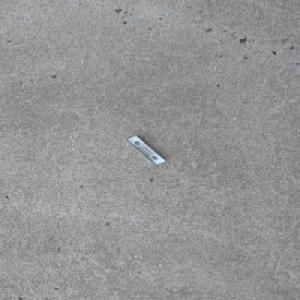ClampPart: (123, 134, 166, 165)
